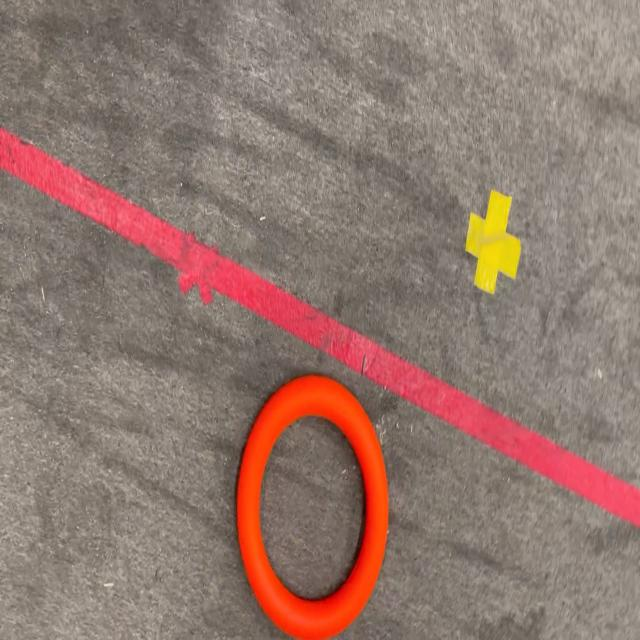note: (235, 371, 389, 640)
